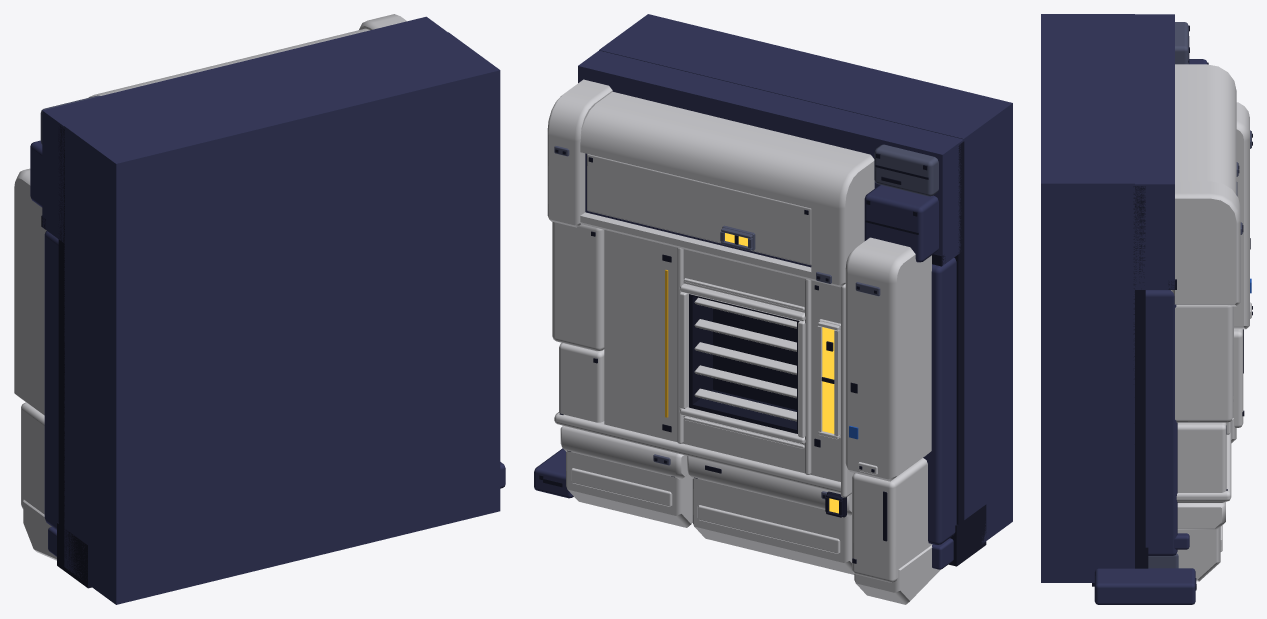
Rendered from hull.bay.vent_amber.bumper.none.plate.w3.000.s2.k-2.05.glb.
The picture shows the model from 3 angles, left to right: view 1: azimuth 30°, elevation 25°; view 2: azimuth 150°, elevation 25°; view 3: azimuth 270°, elevation 25°; orthographic projection. The views are drawn at different scales.
Parts seen in each view (by area): view 1: hull.bay.vent_amber.bumper.none.plate.w3.000.s2.k-2.05; view 2: hull.bay.vent_amber.bumper.none.plate.w3.000.s2.k-2.05; view 3: hull.bay.vent_amber.bumper.none.plate.w3.000.s2.k-2.05.
Part boxes in pixels (box(x1,y1,x2,y2)): hull.bay.vent_amber.bumper.none.plate.w3.000.s2.k-2.05: box(14, 14, 505, 604); hull.bay.vent_amber.bumper.none.plate.w3.000.s2.k-2.05: box(534, 14, 1012, 604); hull.bay.vent_amber.bumper.none.plate.w3.000.s2.k-2.05: box(1041, 14, 1252, 604).
Bounding box in the file's own units: 3.29 × 3.45 × 1.58.
